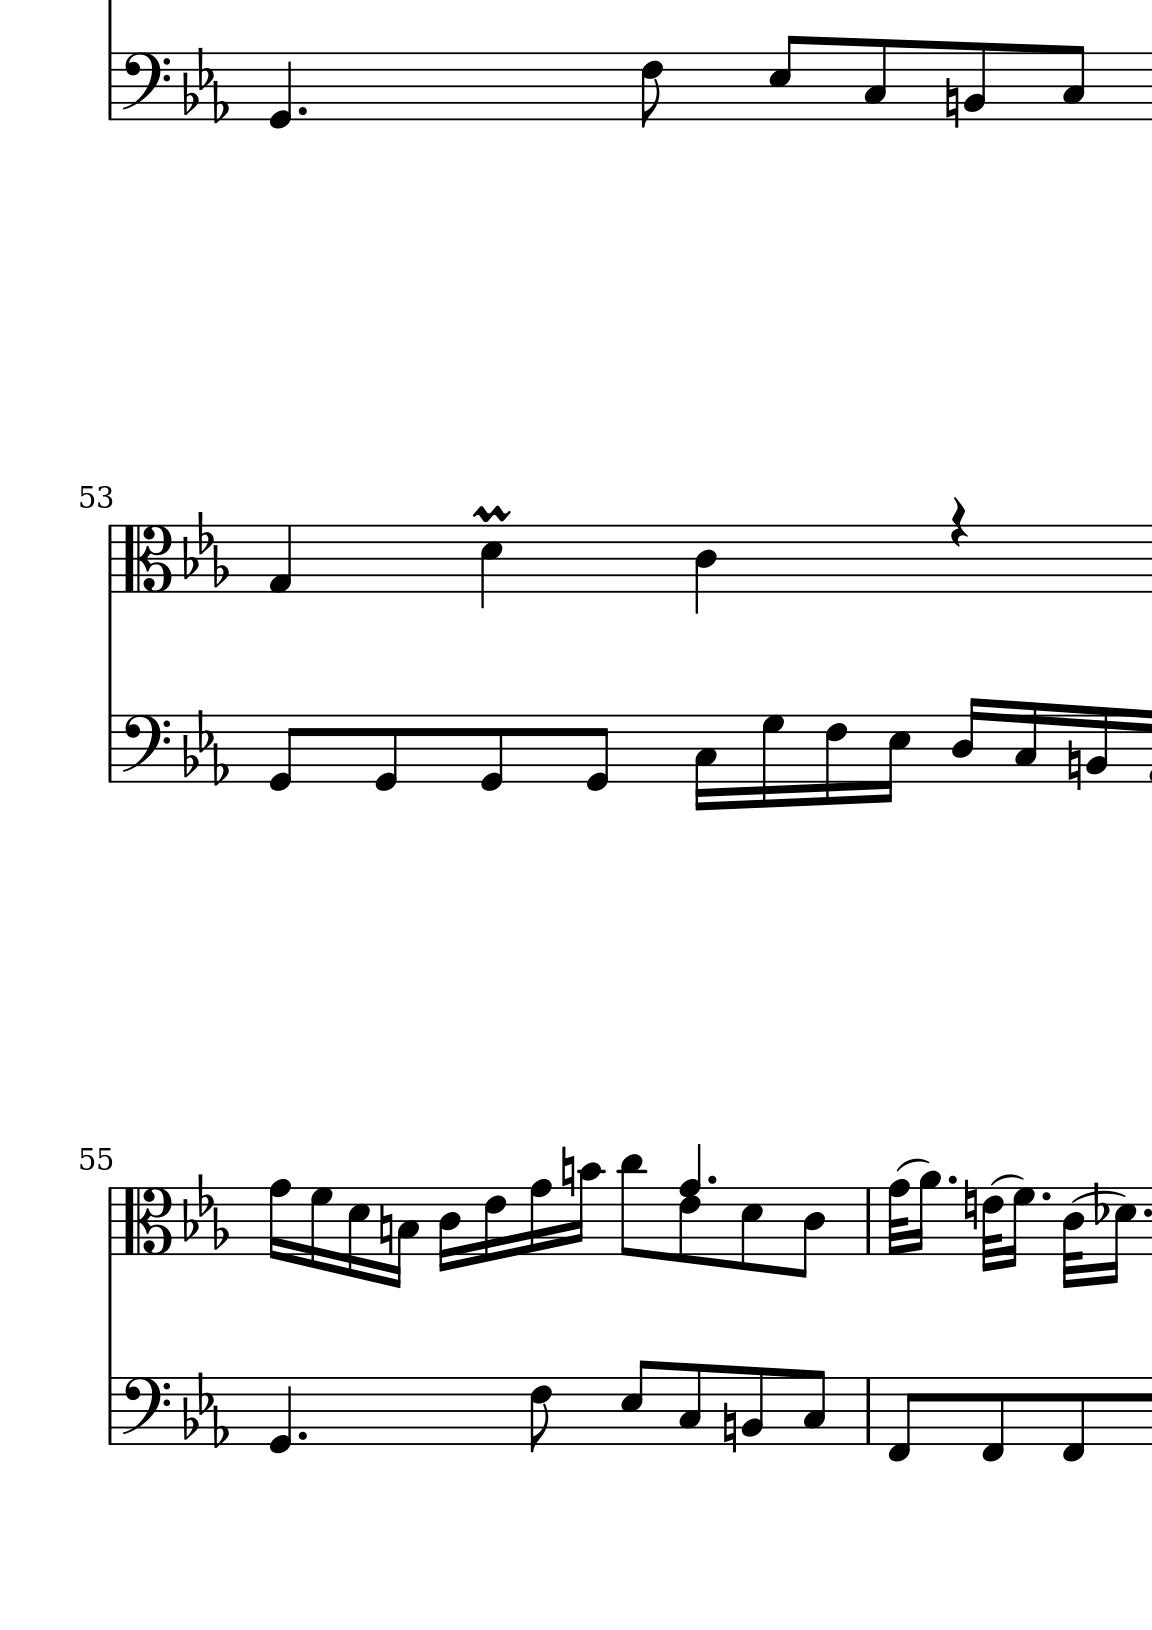16_10: (570, 1161, 603, 1257)
16_2: (1085, 705, 1110, 784)
16_3: (390, 1186, 418, 1290), (692, 713, 717, 813), (1012, 699, 1039, 783)
16_4: (950, 697, 981, 784), (435, 1186, 460, 1274)
16_5: (1102, 1186, 1137, 1286), (878, 713, 913, 804), (345, 1185, 370, 1280)
16_6: (823, 712, 849, 808), (481, 1185, 506, 1264)
16_7: (1002, 1185, 1035, 1271), (759, 712, 785, 811), (305, 1185, 333, 1274)
16_8: (266, 1176, 290, 1264), (527, 1178, 552, 1257)
16_9: (911, 1166, 941, 1260)
3: (95, 484, 113, 511)
32_4: (1058, 1186, 1085, 1291)
32_6: (980, 1185, 1002, 1274)
32_8: (885, 1178, 909, 1256)
4_0: (266, 50, 293, 130), (267, 1375, 293, 1456)
4_1: (266, 523, 292, 594)
4_4: (692, 523, 717, 616)
4_5: (479, 523, 502, 611)
5: (95, 1144, 113, 1173), (77, 1145, 96, 1173), (77, 484, 95, 511)
8_-1: (886, 1376, 919, 1464), (1058, 1375, 1087, 1466), (979, 1375, 1006, 1464)
8_0: (266, 713, 300, 793), (372, 713, 398, 793), (478, 713, 504, 793), (583, 713, 610, 793)
8_11: (617, 1151, 645, 1261)
8_2: (962, 40, 989, 122), (739, 1365, 766, 1447)
8_3: (863, 36, 890, 122), (676, 1361, 703, 1447), (1060, 42, 1087, 121), (800, 1368, 827, 1447)
8_4: (793, 1186, 827, 1281)
8_5: (766, 32, 800, 121), (618, 1358, 651, 1446), (739, 1185, 763, 1274)
8_6: (638, 50, 663, 130), (527, 1376, 552, 1453)
8_6_8: (679, 1176, 703, 1267)
Cclef: (121, 523, 173, 593), (121, 1185, 172, 1256)
E_F: (180, 1174, 229, 1252), (181, 510, 229, 589), (181, 46, 229, 123), (181, 709, 228, 785)
Fclef: (120, 50, 172, 122), (120, 712, 172, 784), (120, 1375, 172, 1446)
Flat: (1091, 1181, 1107, 1227)
Natural: (1063, 738, 1082, 793), (943, 76, 961, 130), (559, 1144, 575, 1199), (961, 1178, 977, 1232), (721, 1401, 737, 1454), (377, 1203, 393, 1255)
Rests4: (948, 496, 970, 550)
ShortTrill: (469, 503, 512, 525)
Single_barline: (859, 1378, 876, 1446), (101, 525, 117, 593), (102, 715, 118, 783), (101, 1188, 117, 1255), (102, 54, 118, 120), (860, 1188, 876, 1254), (102, 1378, 118, 1444)
Slur: (894, 1158, 930, 1173), (987, 1174, 1025, 1188)
dot: (294, 103, 308, 118), (704, 1173, 718, 1188), (1039, 1190, 1052, 1203), (1140, 1206, 1152, 1220), (294, 1429, 308, 1442), (945, 1174, 958, 1186)
